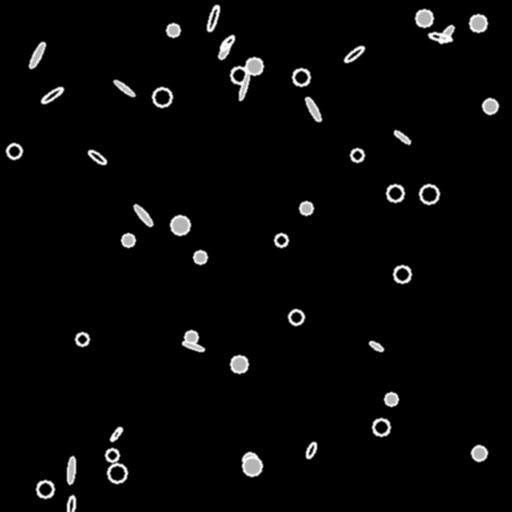pseudomonas: (27, 40, 47, 70), (132, 203, 154, 227), (304, 96, 322, 122), (343, 44, 365, 64), (40, 86, 64, 104), (237, 71, 251, 101), (113, 79, 135, 97), (206, 4, 220, 32), (437, 24, 455, 44), (87, 148, 107, 166), (219, 34, 235, 52), (181, 340, 205, 352), (393, 129, 411, 145), (66, 456, 76, 484), (217, 43, 231, 59), (109, 426, 123, 442), (429, 32, 451, 42), (305, 441, 317, 459), (368, 340, 384, 352), (67, 495, 75, 512)
synechocystis: (171, 216, 189, 234), (153, 88, 171, 106), (108, 464, 126, 482), (243, 457, 261, 475), (420, 185, 438, 203), (470, 15, 486, 31), (387, 185, 403, 201), (231, 67, 247, 83), (246, 58, 262, 74), (394, 266, 410, 282), (416, 10, 432, 26), (231, 356, 247, 372), (37, 481, 53, 497), (373, 419, 389, 435), (293, 69, 309, 85), (483, 99, 497, 113), (243, 453, 257, 467), (289, 310, 303, 324), (472, 446, 486, 460), (7, 144, 21, 158), (185, 331, 197, 343), (385, 393, 397, 405), (275, 234, 287, 246), (167, 24, 179, 36), (106, 449, 118, 461), (76, 333, 88, 345), (122, 234, 134, 246), (194, 251, 206, 263), (300, 202, 312, 214), (351, 149, 363, 161)
